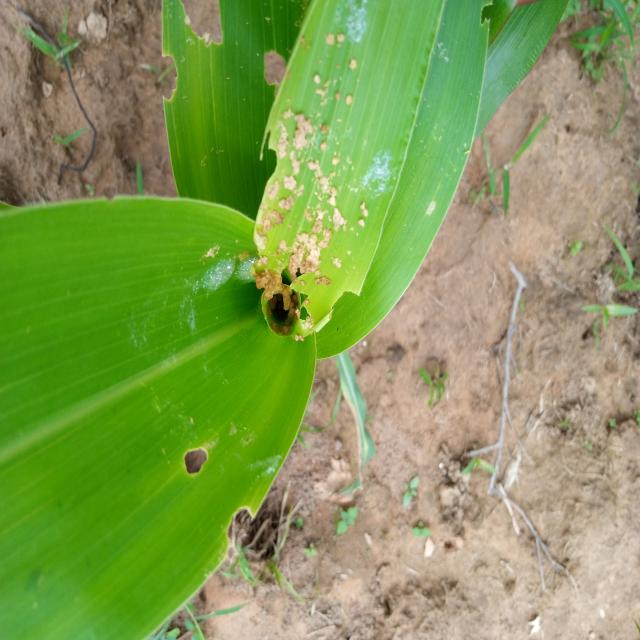fall-armyworm-egg: (192, 256, 251, 300), (341, 4, 378, 42), (361, 154, 396, 192)
fall-armyworm-frass: (286, 110, 318, 180), (294, 224, 323, 278), (327, 186, 348, 233), (270, 189, 296, 226)
fall-armyworm-larva: (266, 292, 303, 336)
fall-armyworm-larval-damage: (173, 420, 212, 490), (178, 3, 228, 55), (249, 38, 287, 96), (153, 48, 187, 108), (255, 121, 282, 181), (220, 506, 260, 544), (478, 2, 497, 31)
healthy-maize: (17, 239, 163, 619), (390, 11, 461, 150), (193, 61, 242, 199), (233, 355, 299, 414), (380, 211, 415, 278), (502, 11, 533, 66)
